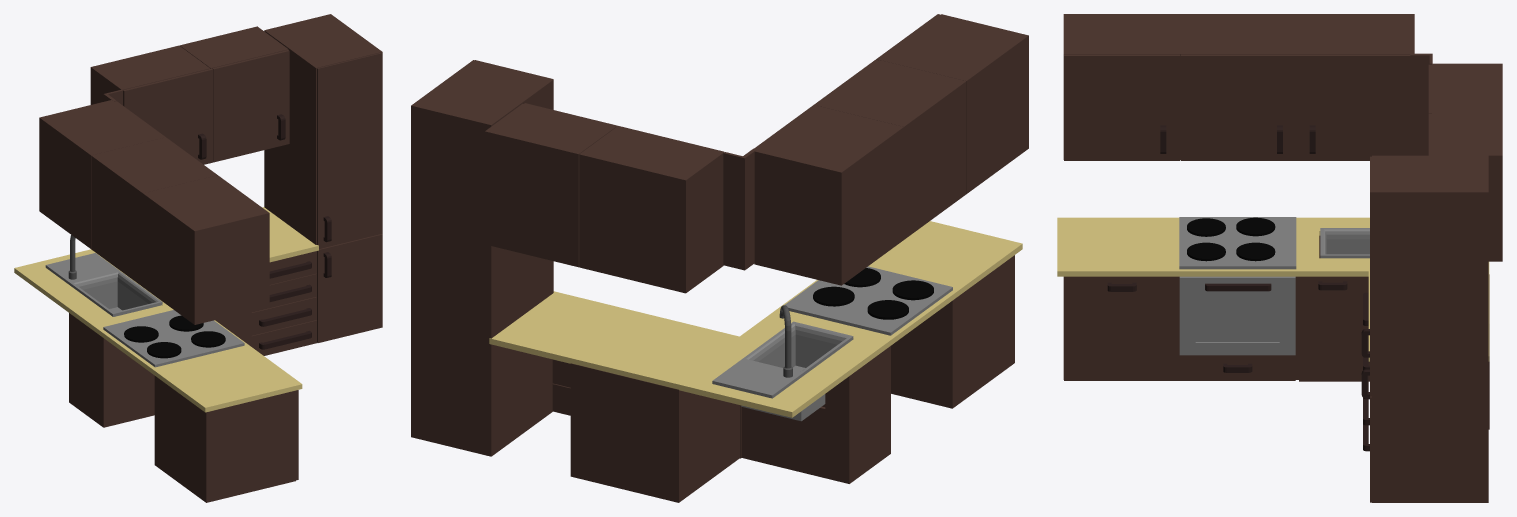
File: kitchen_1.fbx
The picture shows the model from 3 angles, left to right: view 1: azimuth 30°, elevation 25°; view 2: azimuth 150°, elevation 25°; view 3: azimuth 270°, elevation 25°; orthographic projection. The views are drawn at different scales.
Parts seen in each view (by area): view 1: Cube.032, Cube, Cube.021, Cube.012, Cube.020, Cube.031, Cube.037, Cube.040, Cube.010, Cube.022, Cube.041, Cube.013 (+14 smaller); view 2: Cube.020, Cube.012, Cube.031, Cube.043, Cube.016, Cube.038, Cube.037, Cube.032, Cube, Cube.010, Cube.013, Cube.011 (+4 smaller); view 3: Cube.020, Cube.034, Cube.029, Cube.035, Cube.014, Cube.012, Cube.004, Cube.009, Cube.032, Cube.037, Cube.031, Cube.038 (+10 smaller).
Boxes of the visible parts, box(x1,y1,x2,y2) form: Cube.032: box(143, 175, 267, 324); Cube: box(154, 376, 295, 502); Cube.021: box(317, 52, 382, 248); Cube.012: box(14, 207, 318, 412); Cube.020: box(264, 14, 382, 320); Cube.031: box(39, 100, 163, 248); Cube.037: box(91, 138, 214, 286); Cube.040: box(212, 50, 289, 162); Cube.010: box(69, 313, 154, 427); Cube.022: box(317, 234, 382, 342); Cube.041: box(123, 68, 213, 164); Cube.013: box(45, 253, 162, 316); Cube.020: box(411, 60, 553, 456); Cube.012: box(489, 221, 1022, 417); Cube.031: box(754, 105, 903, 285); Cube.043: box(579, 127, 723, 293); Cube.016: box(570, 363, 739, 502); Cube.038: box(485, 104, 615, 267); Cube.037: box(817, 60, 966, 239); Cube.032: box(879, 14, 1028, 193); Cube: box(891, 255, 1014, 408); Cube.010: box(741, 346, 890, 483); Cube.013: box(712, 321, 853, 421); Cube.011: box(784, 266, 952, 335); Cube.020: box(1372, 155, 1488, 502); Cube.034: box(1180, 54, 1296, 160); Cube.029: box(1064, 54, 1179, 160); Cube.035: box(1296, 54, 1412, 160); Cube.014: box(1064, 276, 1179, 380); Cube.012: box(1057, 217, 1489, 361); Cube.004: box(1179, 276, 1295, 355); Cube.009: box(1299, 276, 1369, 381); Cube.032: box(1063, 14, 1180, 159); Cube.037: box(1180, 14, 1297, 54); Cube.031: box(1297, 14, 1414, 54); Cube.038: box(1432, 112, 1502, 261).
Bounding box in the file's own units: 217 × 176 × 228.
